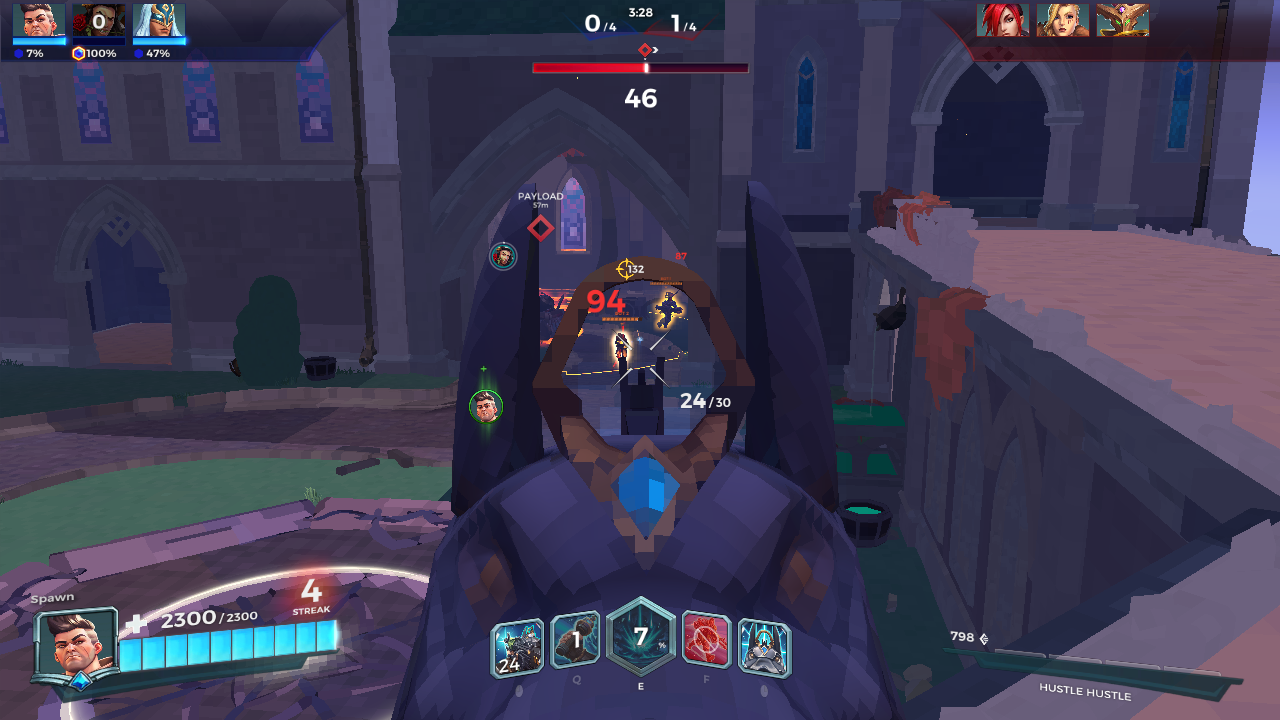model: (656, 288, 684, 322), (611, 327, 629, 362)
